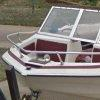Boat: (7, 4, 100, 100)
